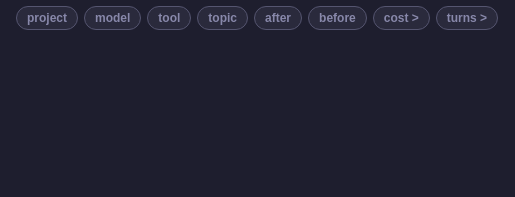
Test case: FilterChips — autocomplete chips › tool chip opens dropdown with tool names
Click the button "tool": (169, 18) [147, 6, 191, 30]
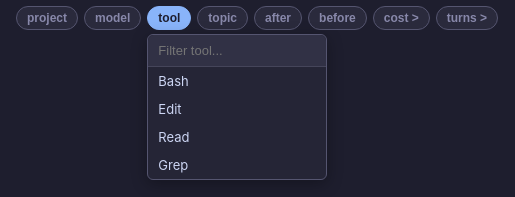
expect the text "Bash" is shown: met, box [158, 73, 189, 89]
